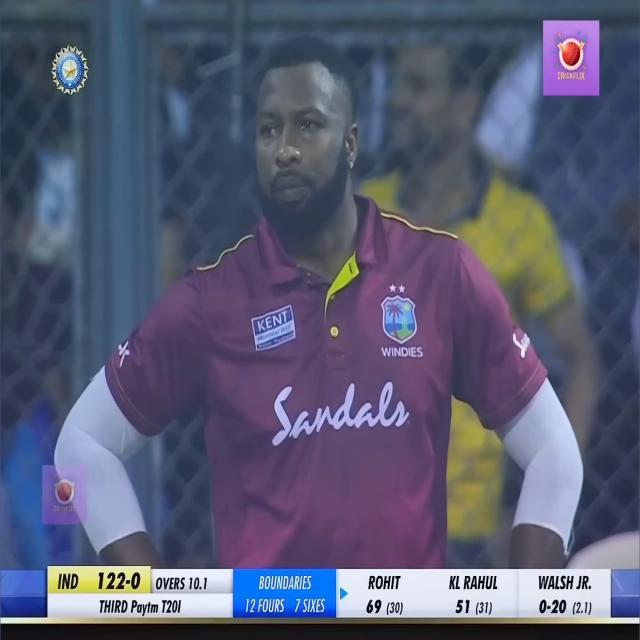fully_visible: (130, 593, 165, 632)
